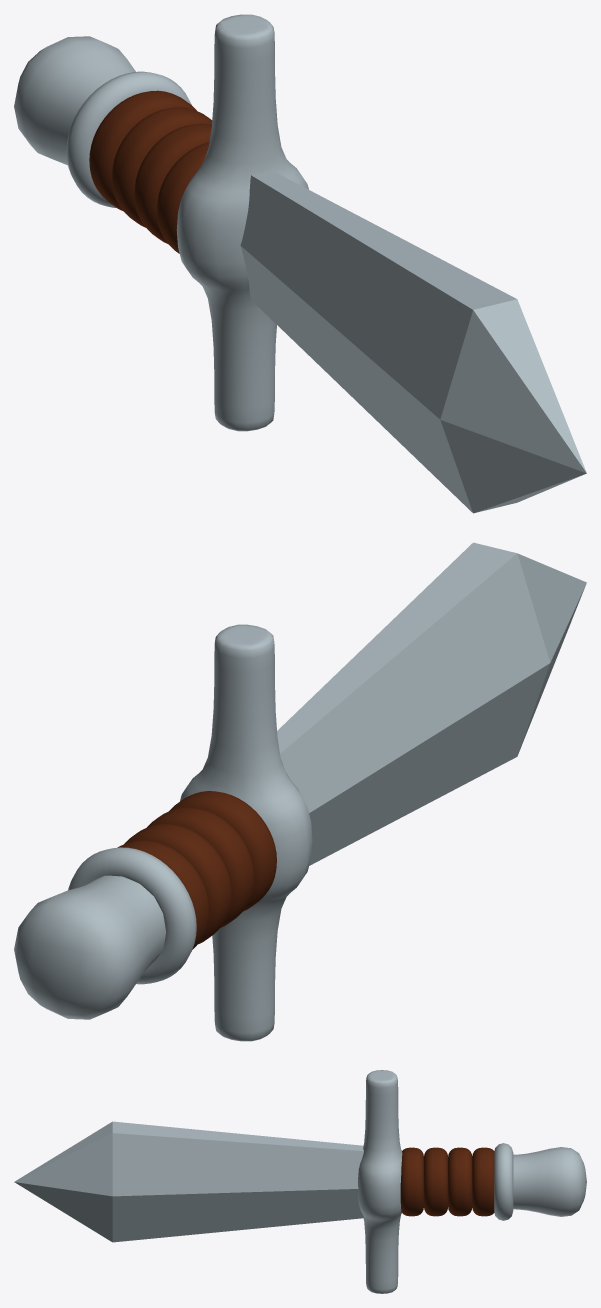
The model's file is sword.glb.
3 renders of one model, top to bottom at view 1: azimuth 30°, elevation 25°; view 2: azimuth 150°, elevation 25°; view 3: azimuth 270°, elevation 25°, orthographic. The views are drawn at different scales.
Visible parts, largest first — view 1: sword; view 2: sword; view 3: sword.
Part boxes in pixels (x1,y1,x2,y2): sword: (14, 14, 586, 513); sword: (14, 542, 586, 1041); sword: (14, 1070, 586, 1293).
Bounding box in the file's own units: 0.2493 × 0.7505 × 1.83.
